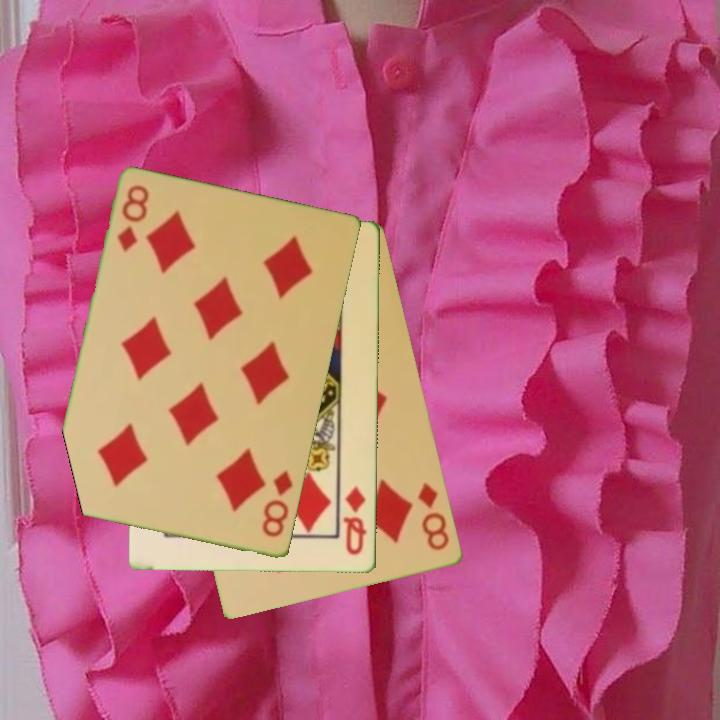8d: (415, 479, 453, 554), (114, 182, 152, 256), (259, 467, 296, 541)
Qd: (340, 483, 370, 559)
